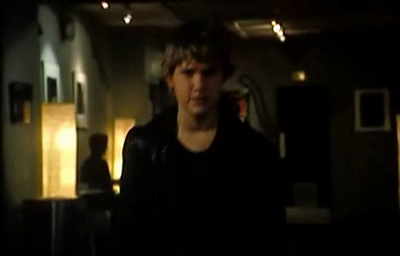face: (177, 63, 220, 114)
ms: (1, 1, 400, 256)
person: (117, 25, 286, 255)
